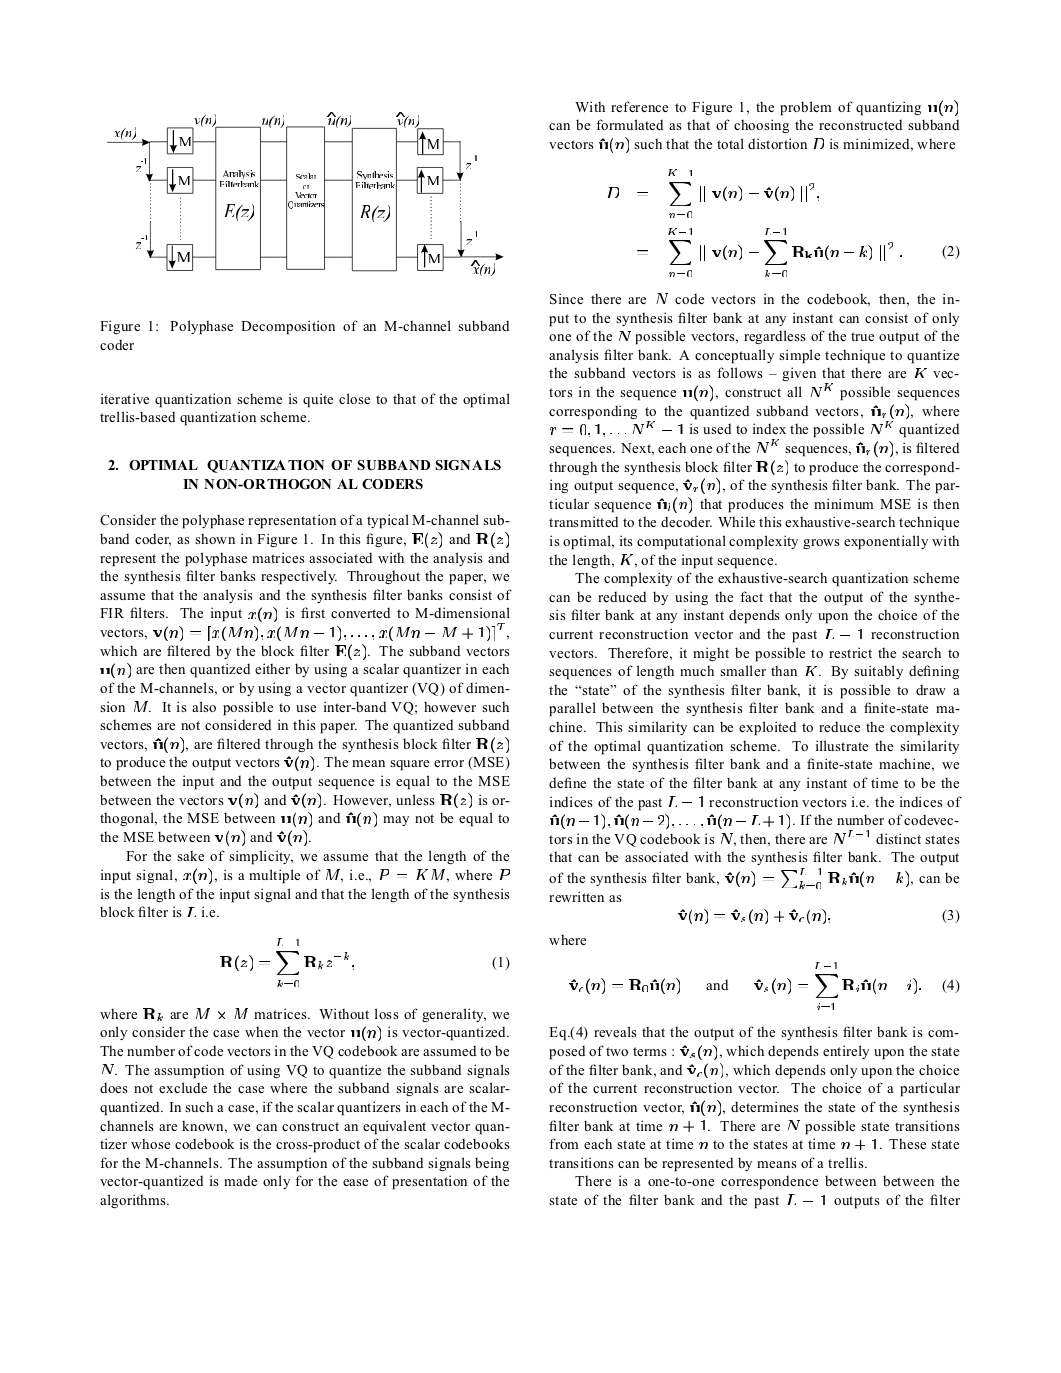figure: (107, 111, 503, 276)
formula: (570, 962, 958, 1009), (637, 228, 958, 276), (220, 938, 509, 986), (607, 169, 818, 217), (100, 623, 508, 640), (678, 908, 958, 924)
